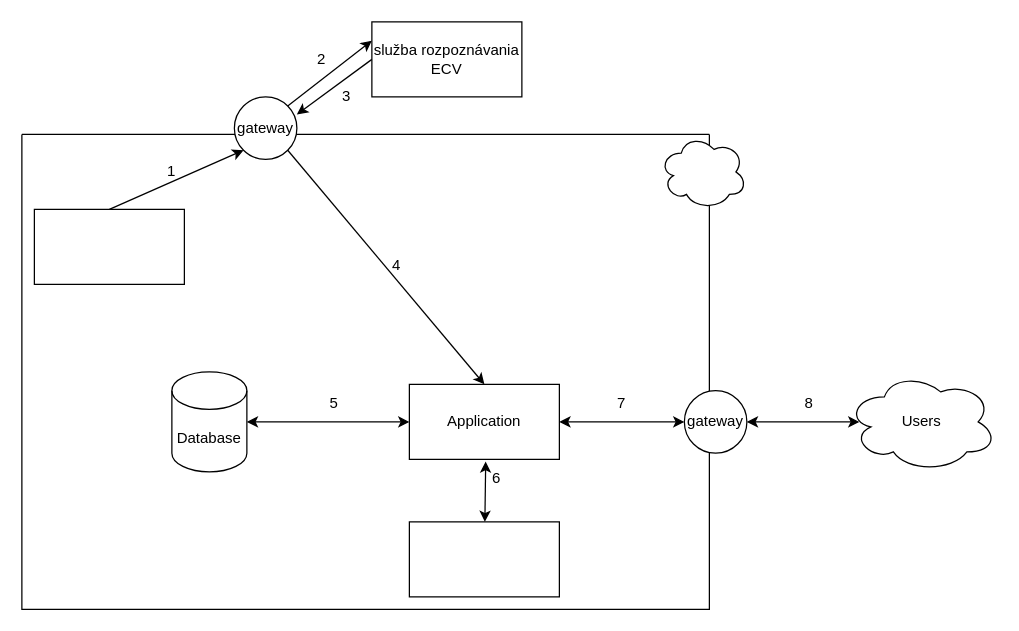
Image size: 1019x631. Some labels were removed from this diagram. The box of each missing label's shape, as (x1, y1, x2, y2) in pixels:
brány: (408, 521, 559, 597)
Kamerovy system: (33, 208, 184, 284)
private cloud: (658, 133, 747, 209)
